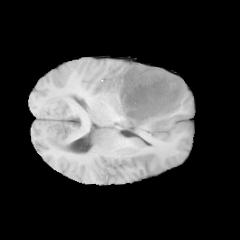glioma: (118, 62, 186, 130)
